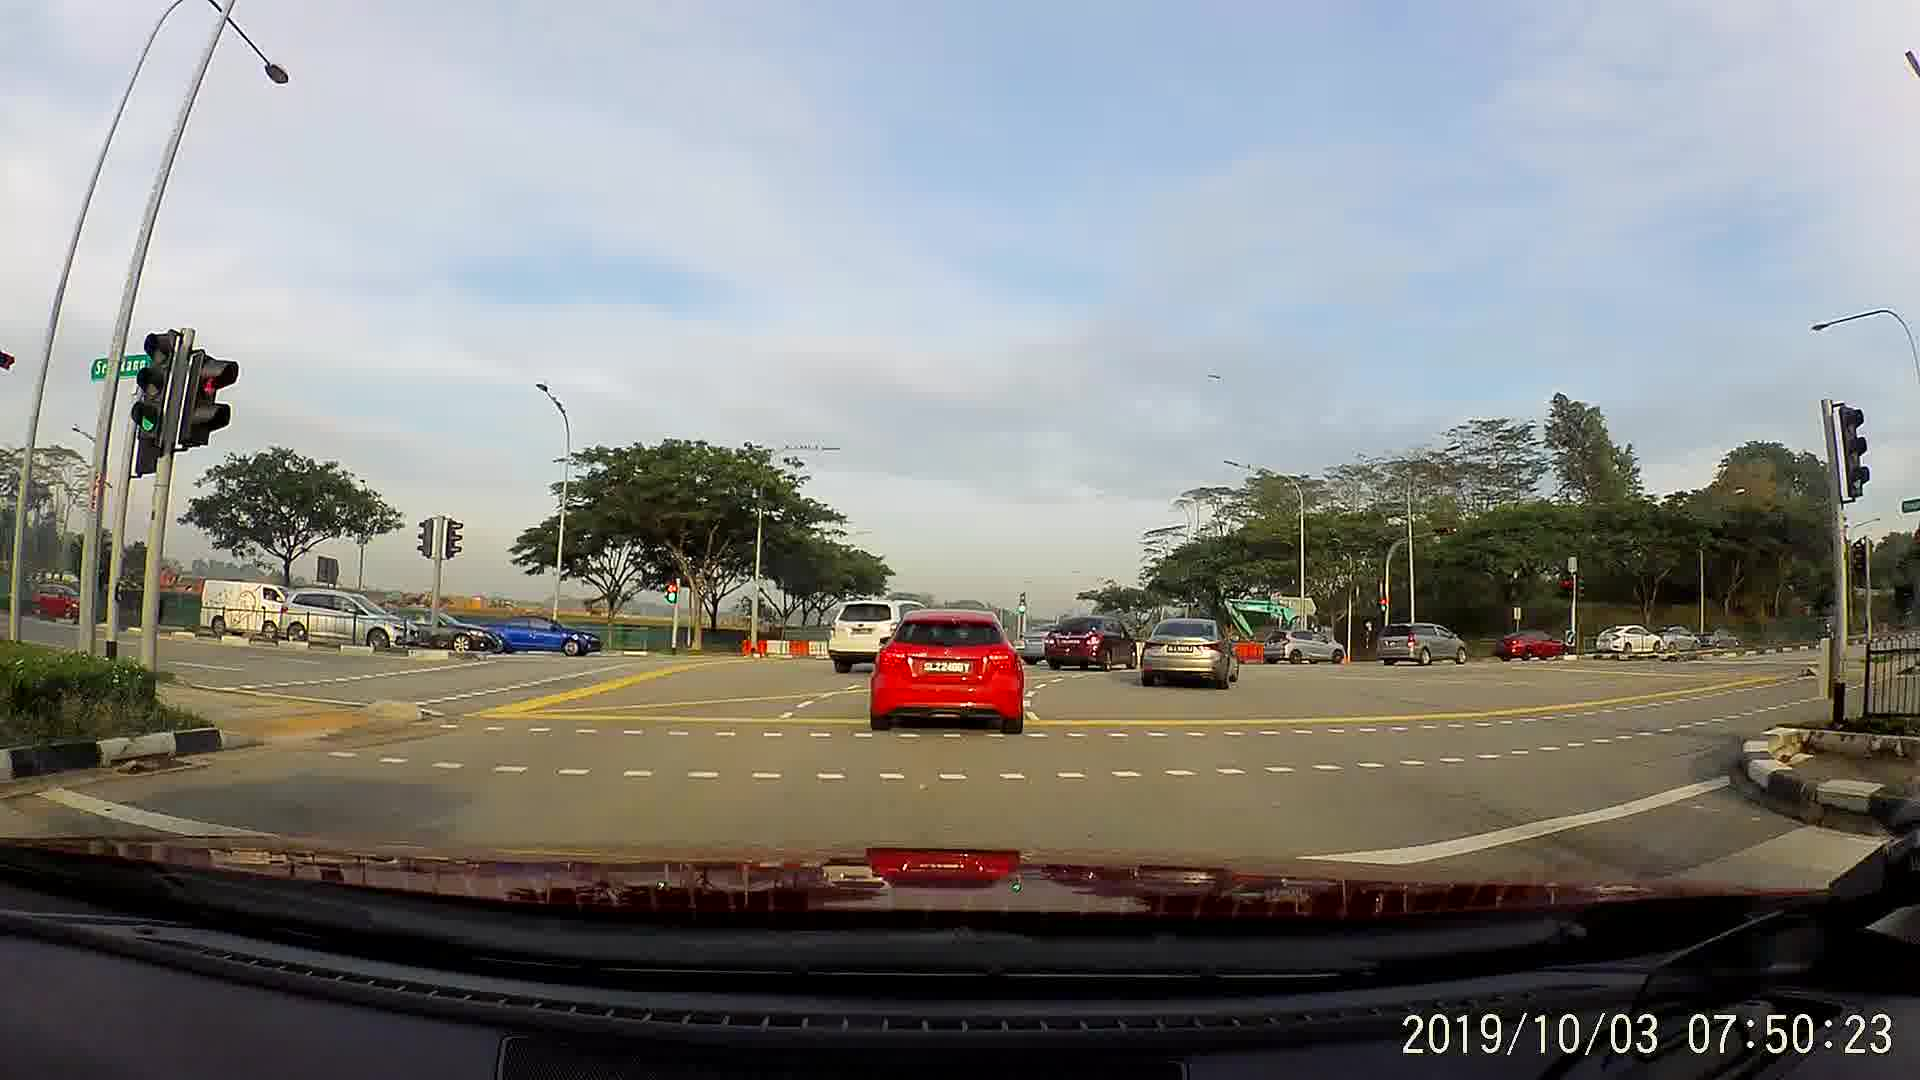car: (872, 611, 1030, 735), (280, 585, 417, 658), (189, 562, 295, 645), (814, 591, 923, 670), (1139, 613, 1244, 692), (378, 603, 501, 651), (484, 609, 607, 655), (1371, 615, 1472, 669), (1042, 616, 1135, 673), (1493, 620, 1573, 666), (1261, 621, 1348, 663), (28, 574, 100, 621), (1593, 617, 1669, 658), (1654, 622, 1701, 653), (1695, 617, 1735, 651)
